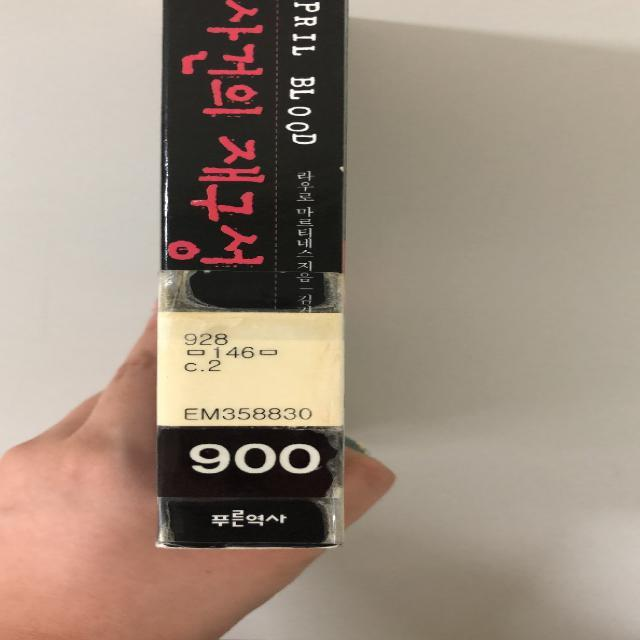Wornout: (144, 535, 350, 556), (328, 162, 357, 175)
